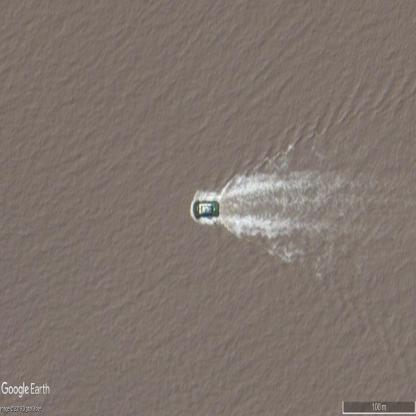ship: (195, 200, 219, 218)
